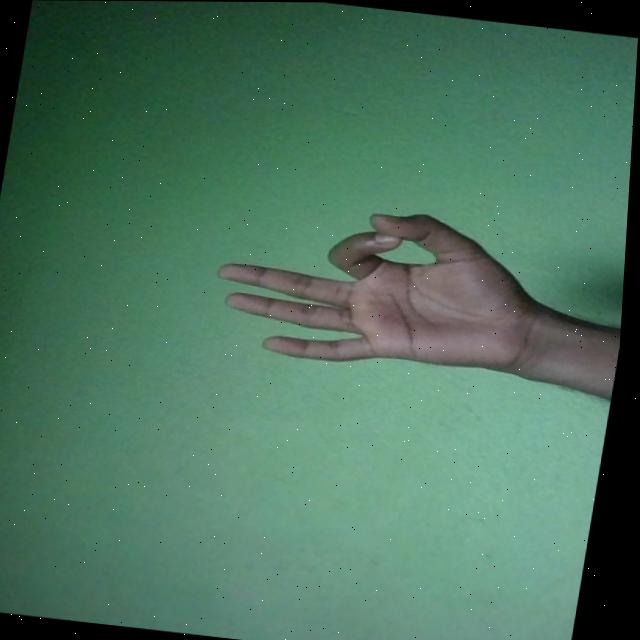Ok: (205, 191, 561, 383)
